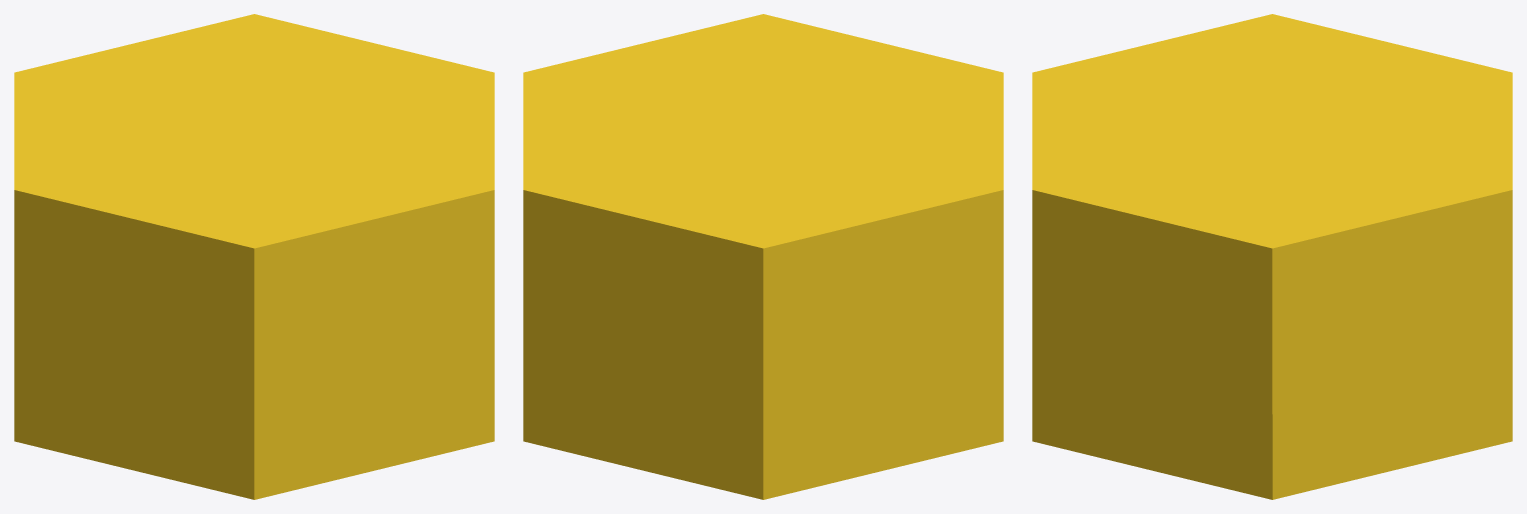
File: HexLightYellow.fbx
The picture shows the model from 3 angles, left to right: view 1: azimuth 30°, elevation 25°; view 2: azimuth 150°, elevation 25°; view 3: azimuth 270°, elevation 25°; orthographic projection.
Visible parts, largest first — view 1: pCylinder1; view 2: pCylinder1; view 3: pCylinder1.
Part boxes in pixels (x1,y1,x2,y2): pCylinder1: (14,14,494,499); pCylinder1: (523,14,1003,499); pCylinder1: (1032,14,1512,499).
Bounding box in the file's own units: 2 × 1 × 1.73.
Materials: 1 (1 with a texture image).
